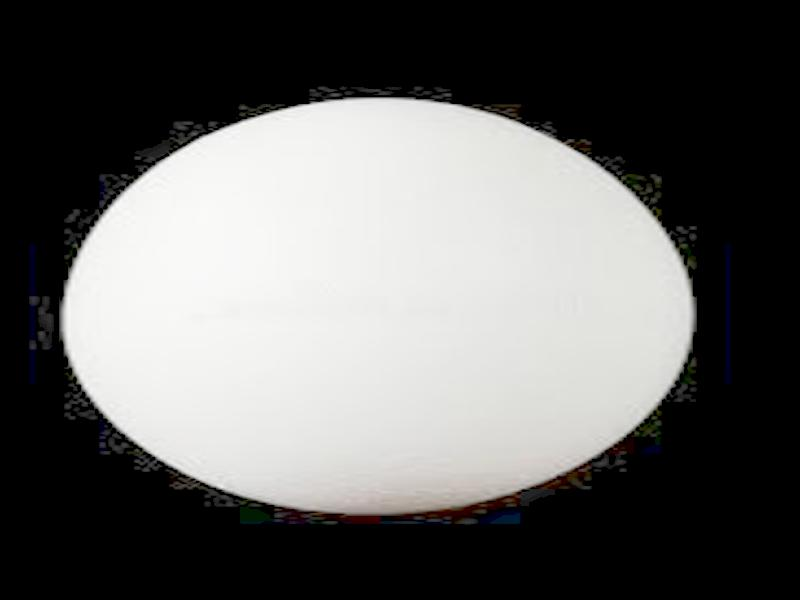Eggs: (60, 100, 690, 515)
